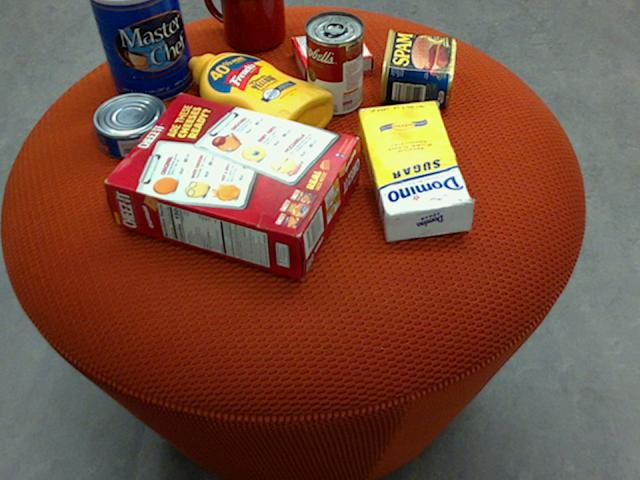cracker_box: (103, 91, 359, 277)
gelatin_box: (291, 26, 373, 84)
large_marker: (242, 0, 271, 44)
master_chef_can: (88, 0, 194, 102)
mug: (205, 0, 284, 51)
mustard_bottle: (188, 53, 332, 151)
potted_meat_can: (378, 29, 454, 107)
sugar_box: (355, 101, 474, 240)
tomato_soup_can: (304, 10, 363, 114)
tuna_fish_can: (91, 92, 170, 159)
